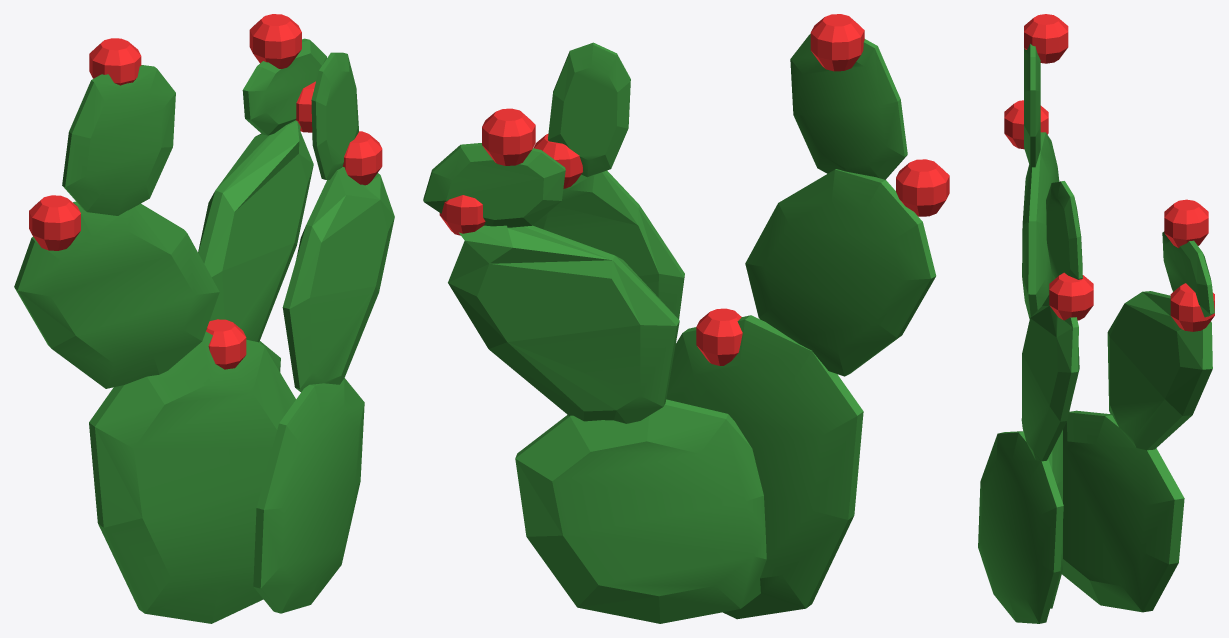
The model's file is Vegetation_Cactus_13.fbx.
The picture shows the model from 3 angles, left to right: view 1: azimuth 30°, elevation 25°; view 2: azimuth 150°, elevation 25°; view 3: azimuth 270°, elevation 25°; orthographic projection. The views are drawn at different scales.
Parts seen in each view (by area): view 1: Vegetation_Cactus_13; view 2: Vegetation_Cactus_13; view 3: Vegetation_Cactus_13.
Part boxes in pixels (x1,y1,x2,y2): Vegetation_Cactus_13: (14, 14, 394, 623); Vegetation_Cactus_13: (423, 14, 949, 623); Vegetation_Cactus_13: (978, 14, 1214, 623).
Bounding box in the file's own units: 1337 × 1892 × 762.
